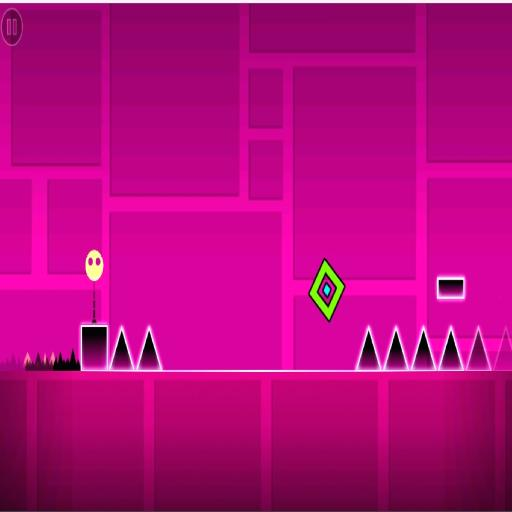block: (78, 324, 110, 374), (434, 276, 467, 300)
player: (309, 258, 345, 321)
spike: (411, 326, 437, 370), (467, 327, 490, 370), (439, 327, 462, 370), (110, 327, 133, 370), (385, 327, 408, 369), (357, 328, 380, 370), (138, 328, 161, 369), (494, 327, 512, 370), (23, 352, 31, 365), (50, 352, 55, 365), (44, 353, 47, 363)
